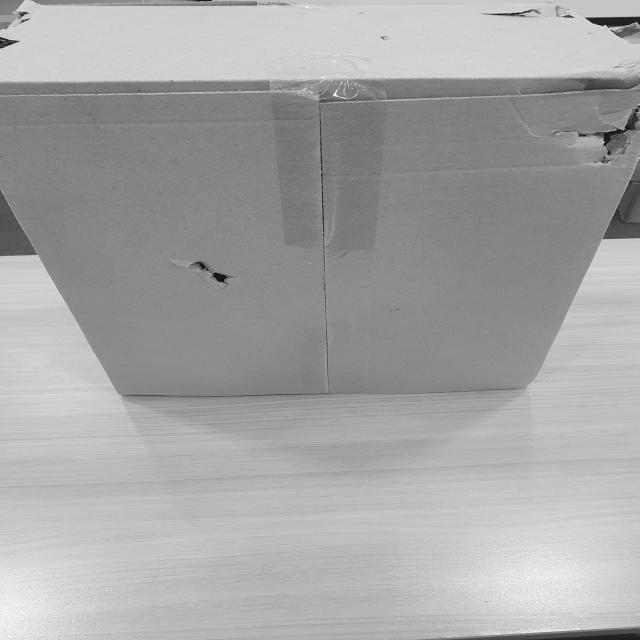hole: (562, 112, 640, 154), (173, 251, 246, 291)
